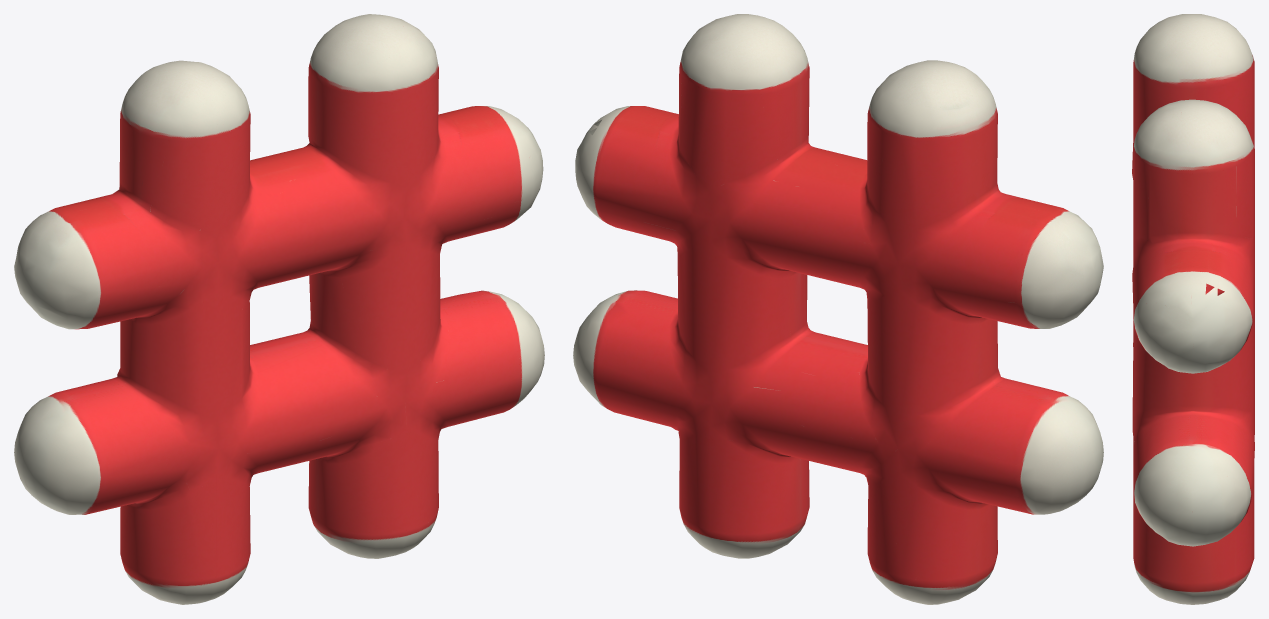
The model's file is hashtag.glb.
3 views of the same model, side by side, from view 1: azimuth 30°, elevation 25°; view 2: azimuth 150°, elevation 25°; view 3: azimuth 270°, elevation 25° (orthographic). The views are drawn at different scales.
Size of the model in its own units: 0.9575 by 0.9473 by 0.2139.
1 material, 1 textured.
